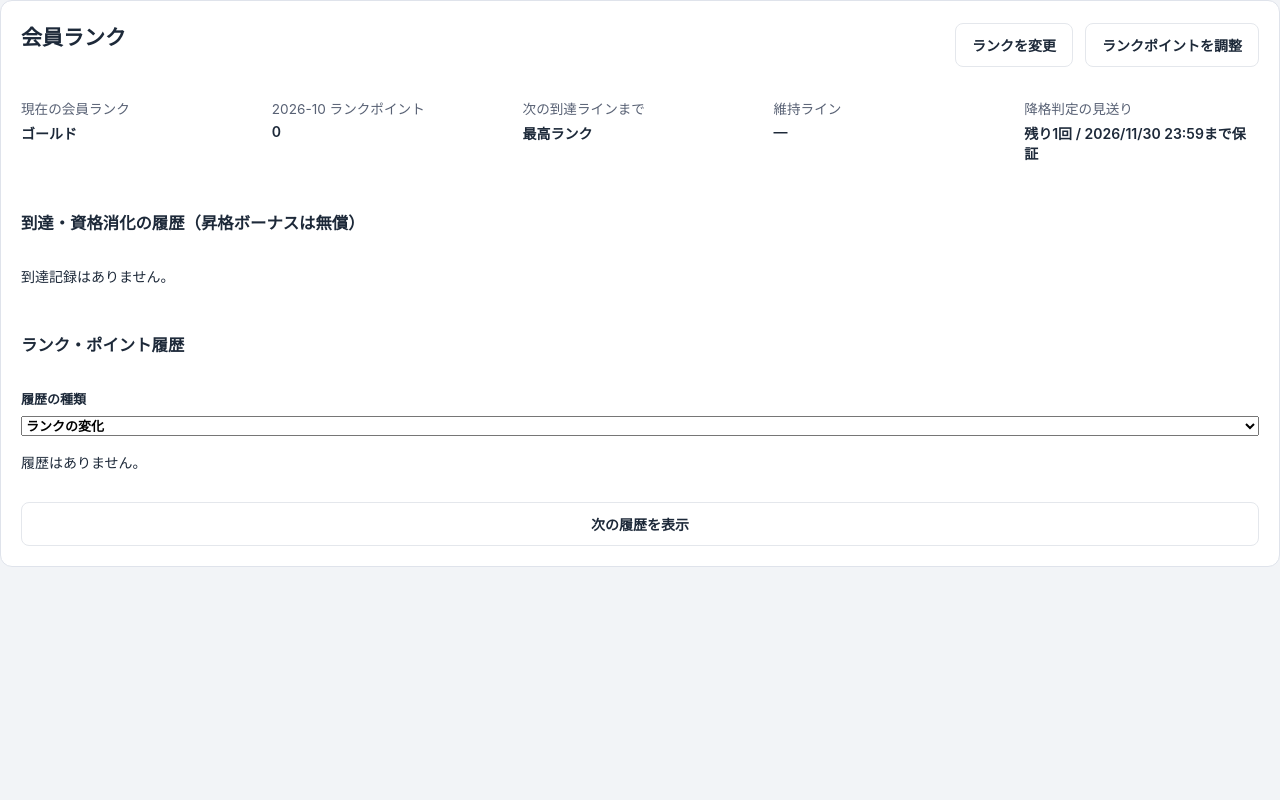
Test: Member rank management › discards an old rank-history page after switching to point history
Click the button "次の履歴を表示" at (640, 524), box [21, 502, 1259, 546]
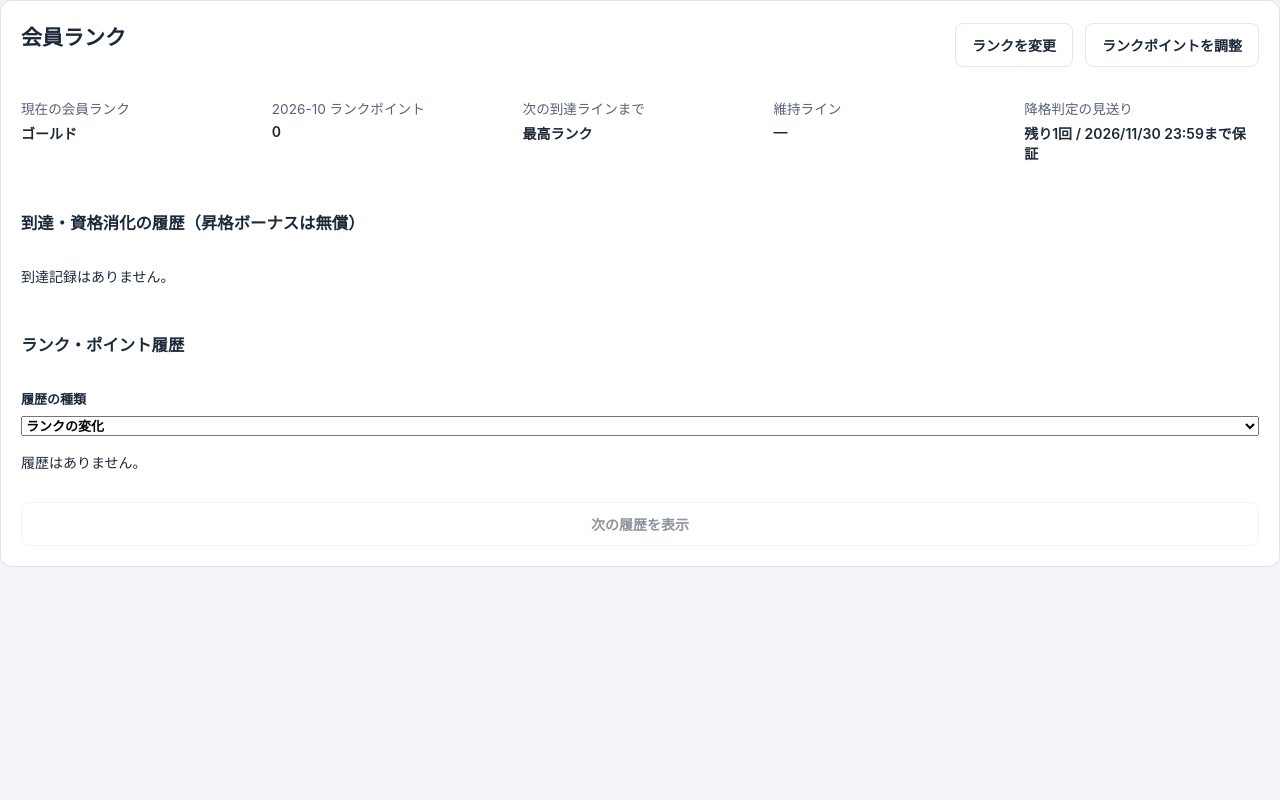
Select "ランクポイントの増減" in the dropdown labelled "履歴の種類" at (640, 426), box [21, 416, 1259, 436]
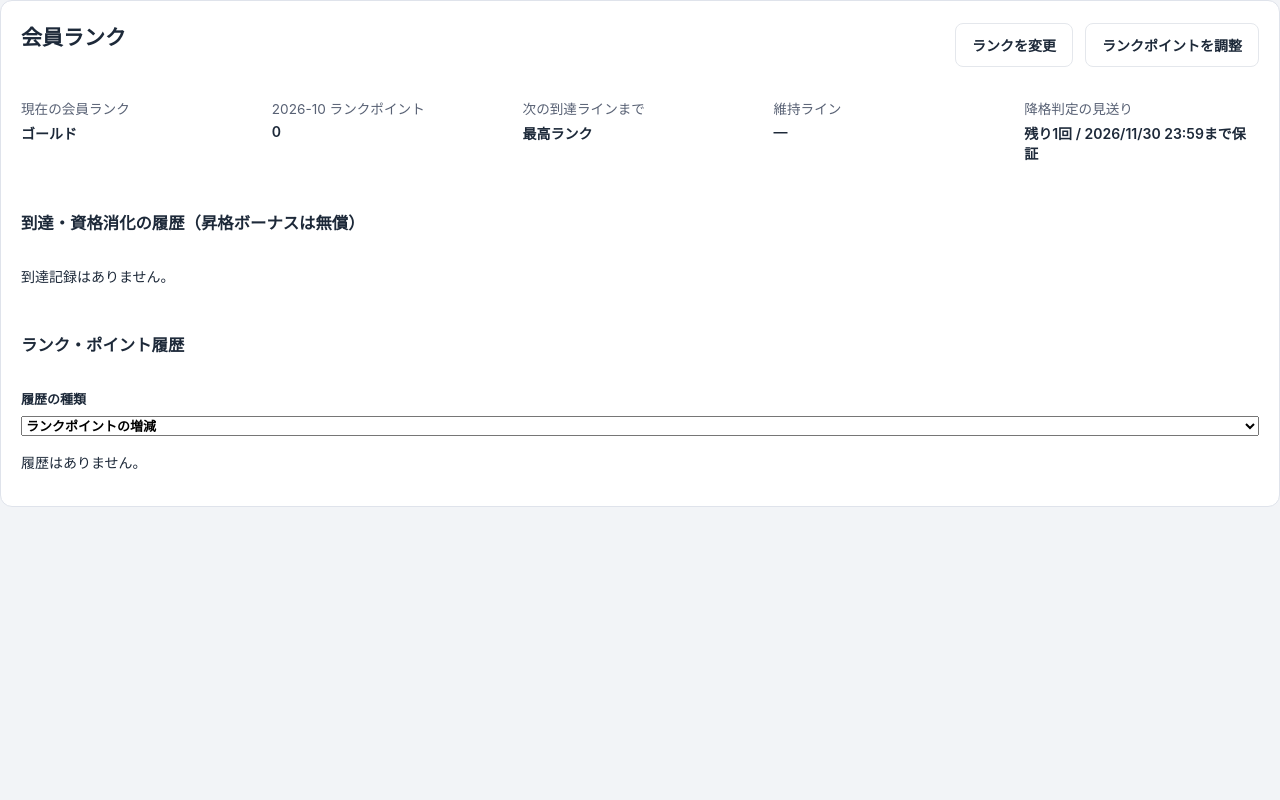
Now the button "次の履歴を表示" is gone
